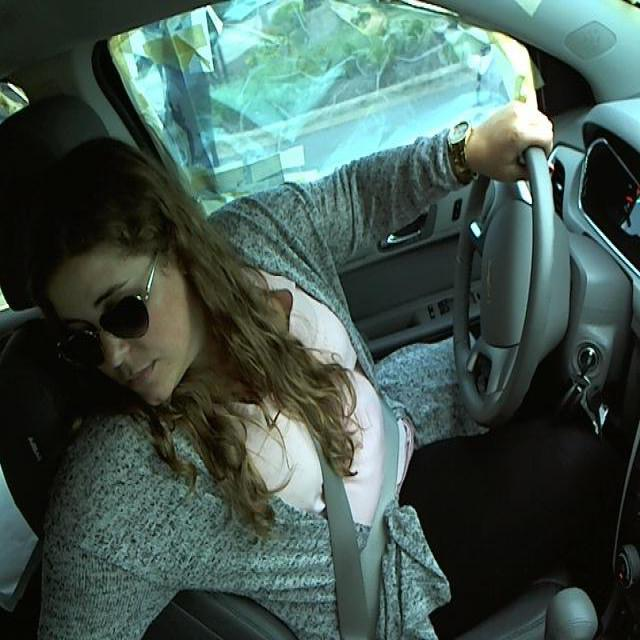seatbelt: (280, 394, 421, 638)
